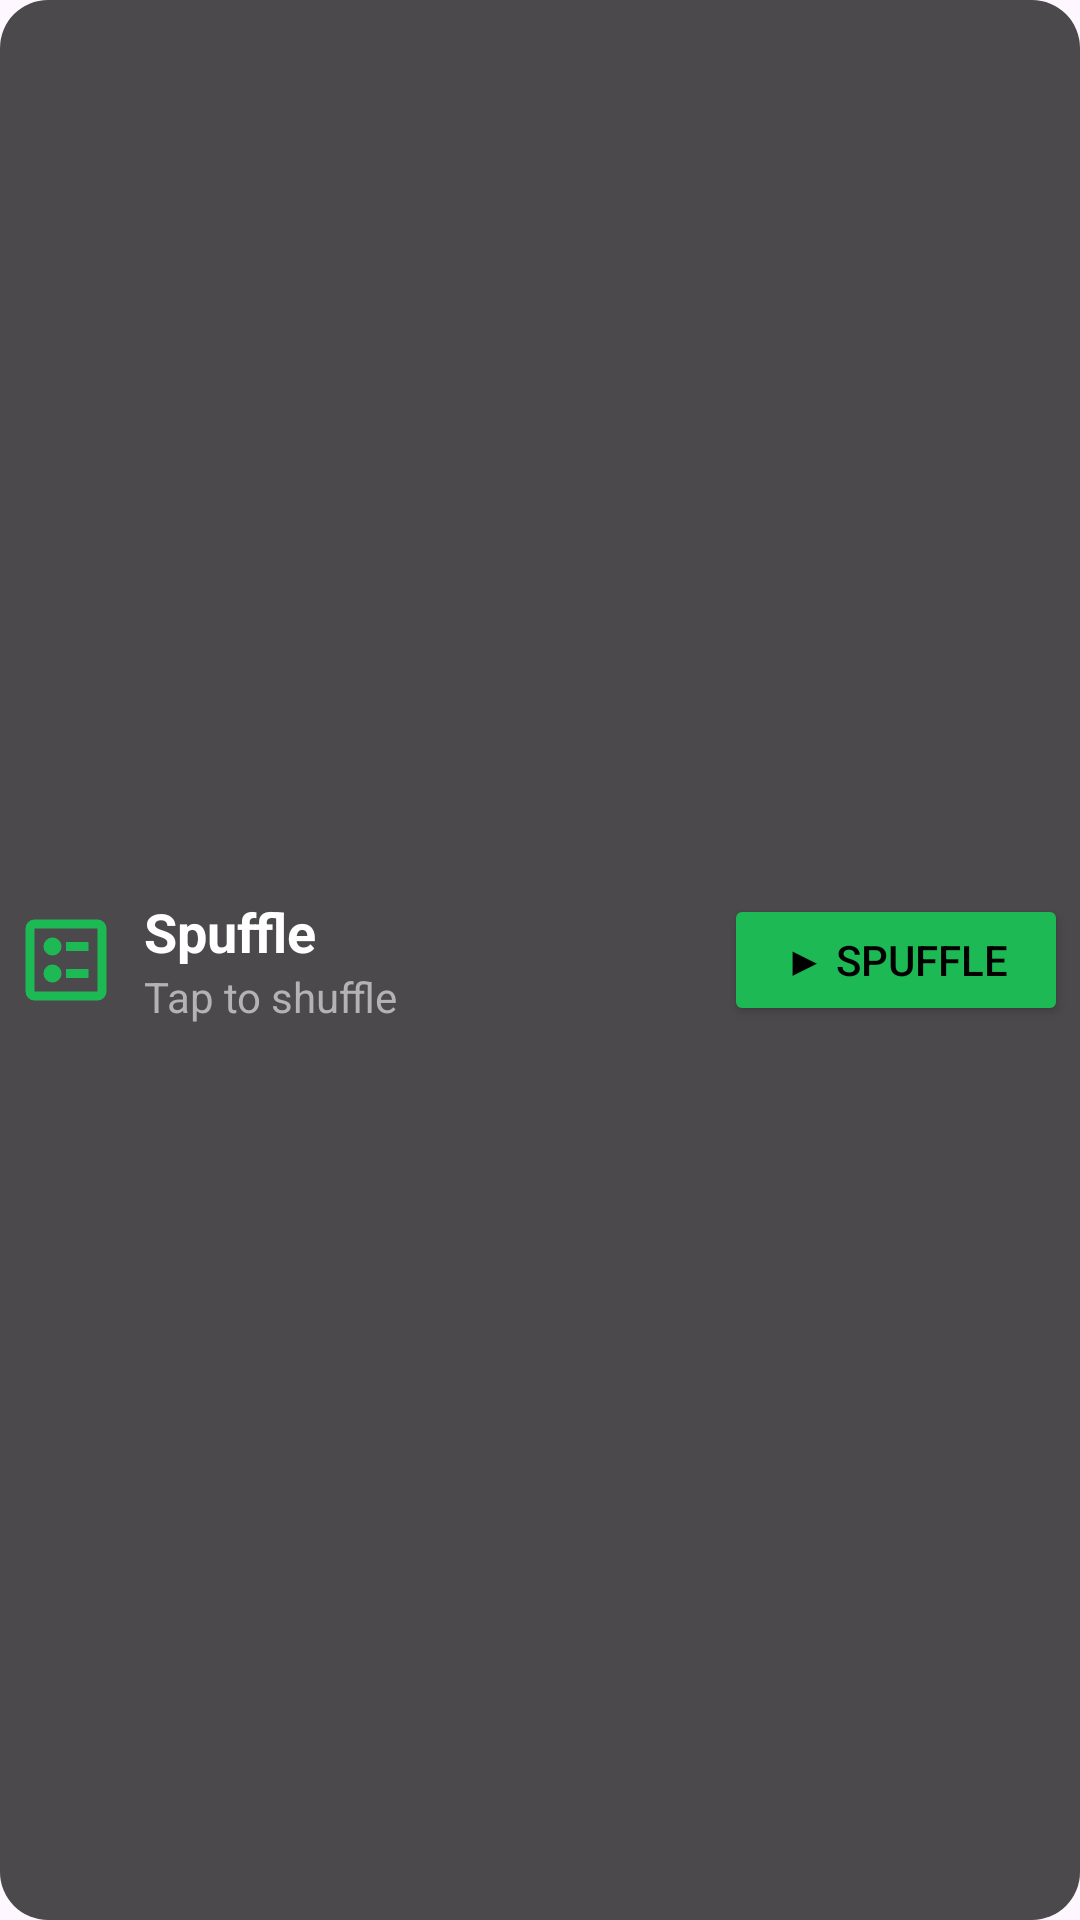

Screen size 1080x1920. Icon name, then its center in pixels as (x,y):
playlist: (66,960)
